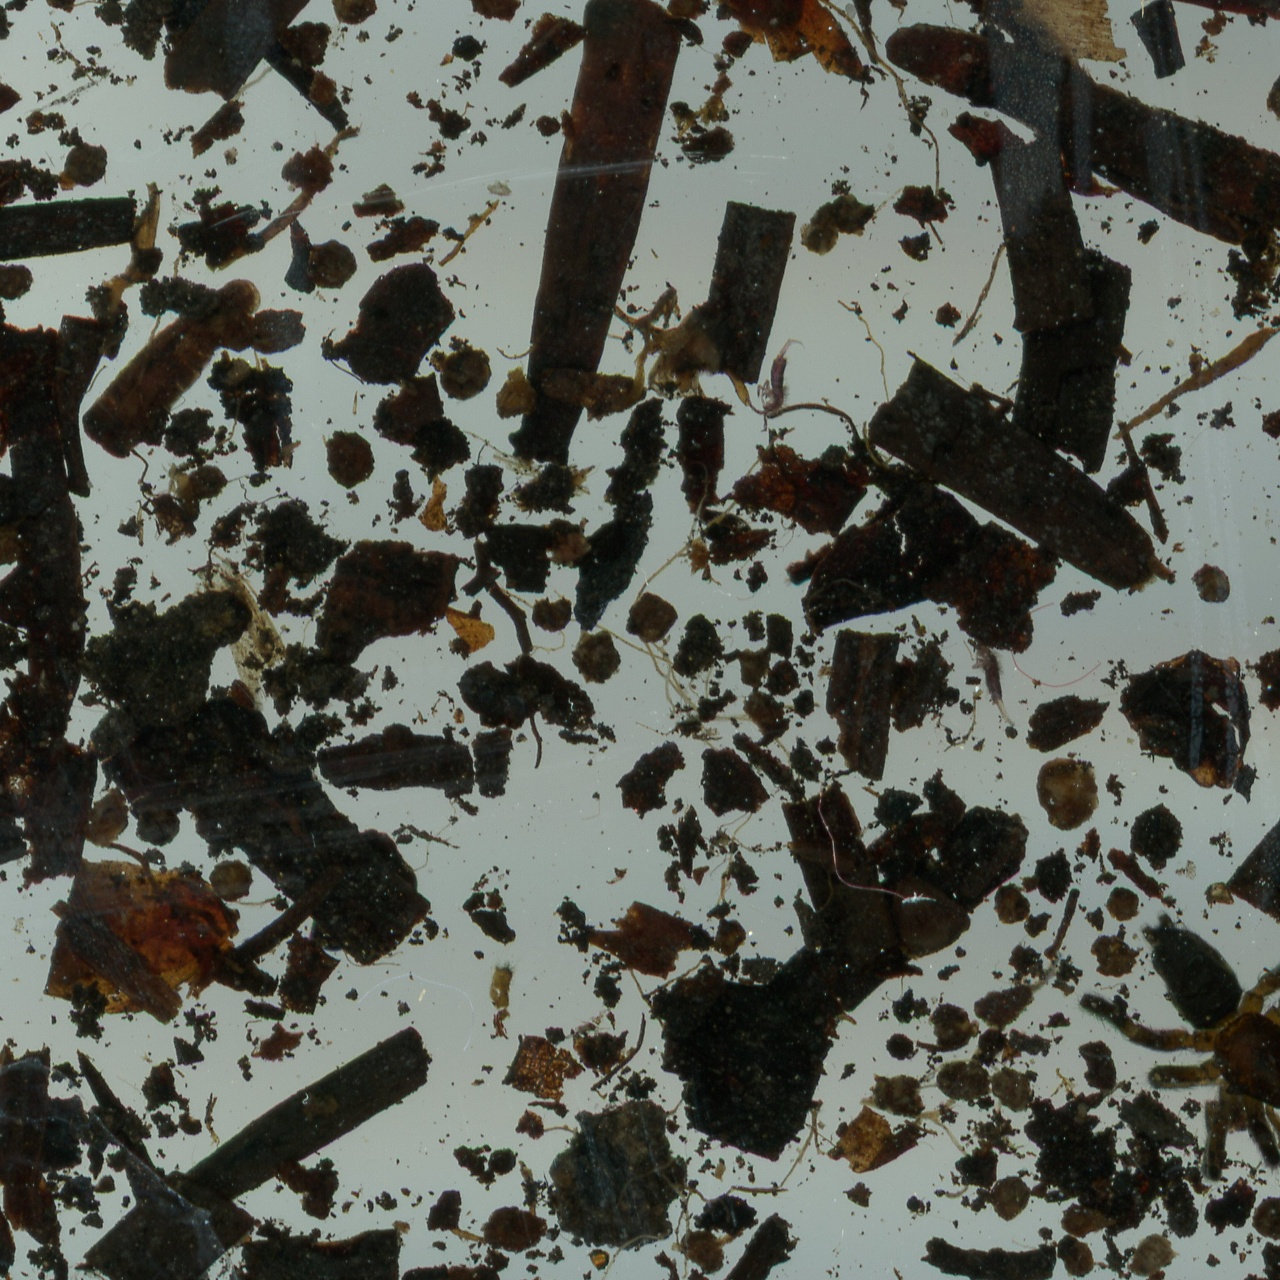arthropod: (1081, 912, 1280, 1183), (755, 335, 805, 422), (971, 644, 1016, 727)
